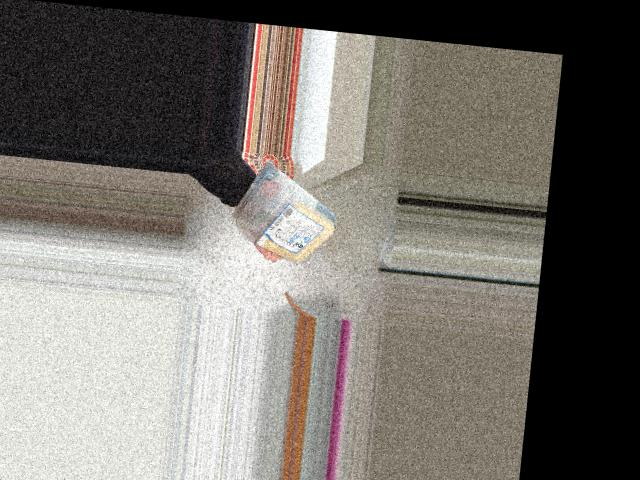cheese: (229, 166, 346, 268)
